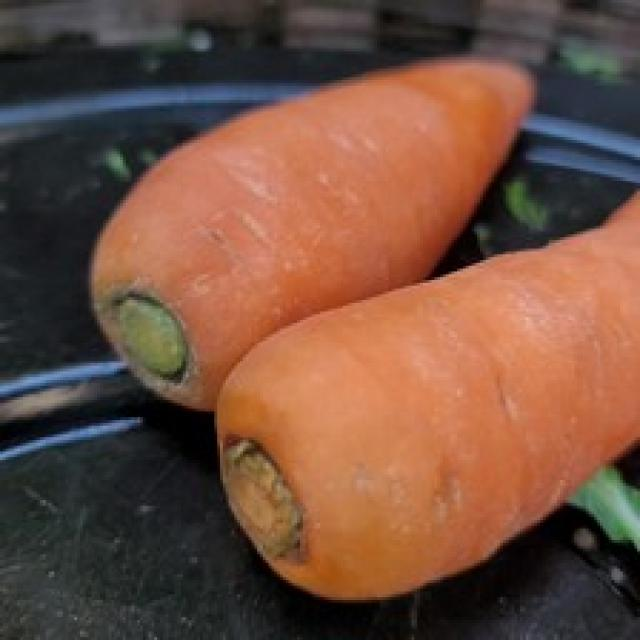carrot: (220, 188, 640, 605), (94, 61, 538, 407)
